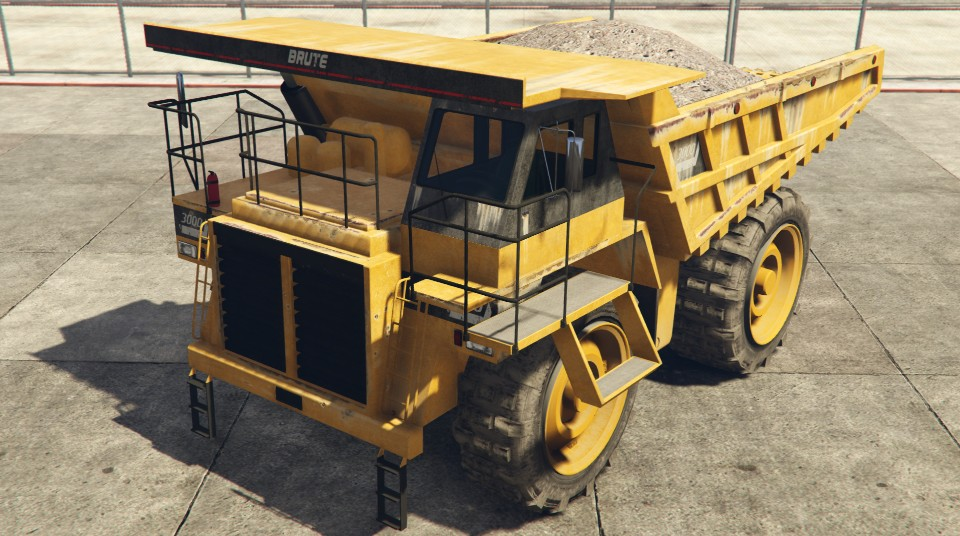truck: (142, 1, 892, 521)
